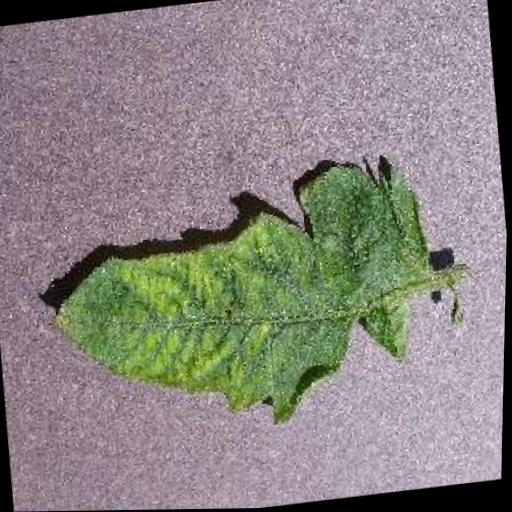Mosaic Virus: (36, 151, 449, 458)
